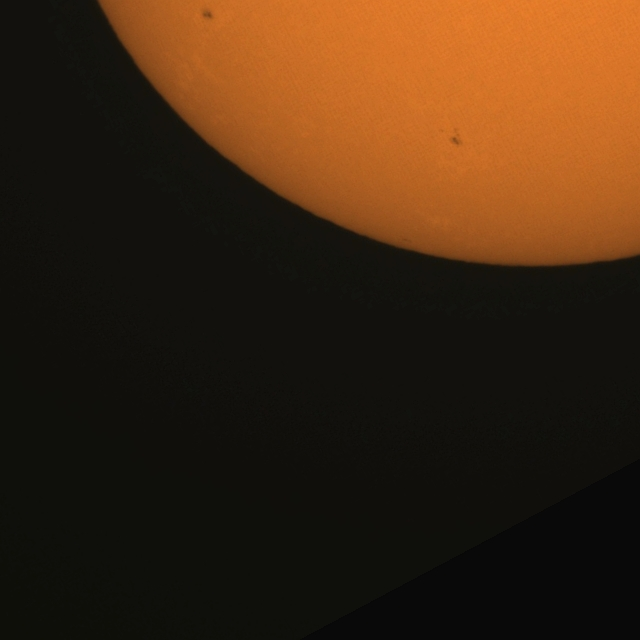sunspot: (449, 128, 463, 148), (201, 8, 214, 22)
